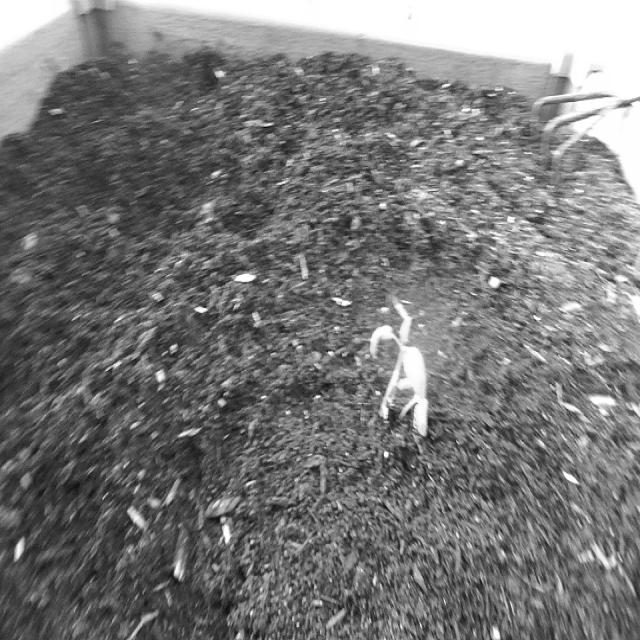Healthy: (362, 282, 436, 469)
